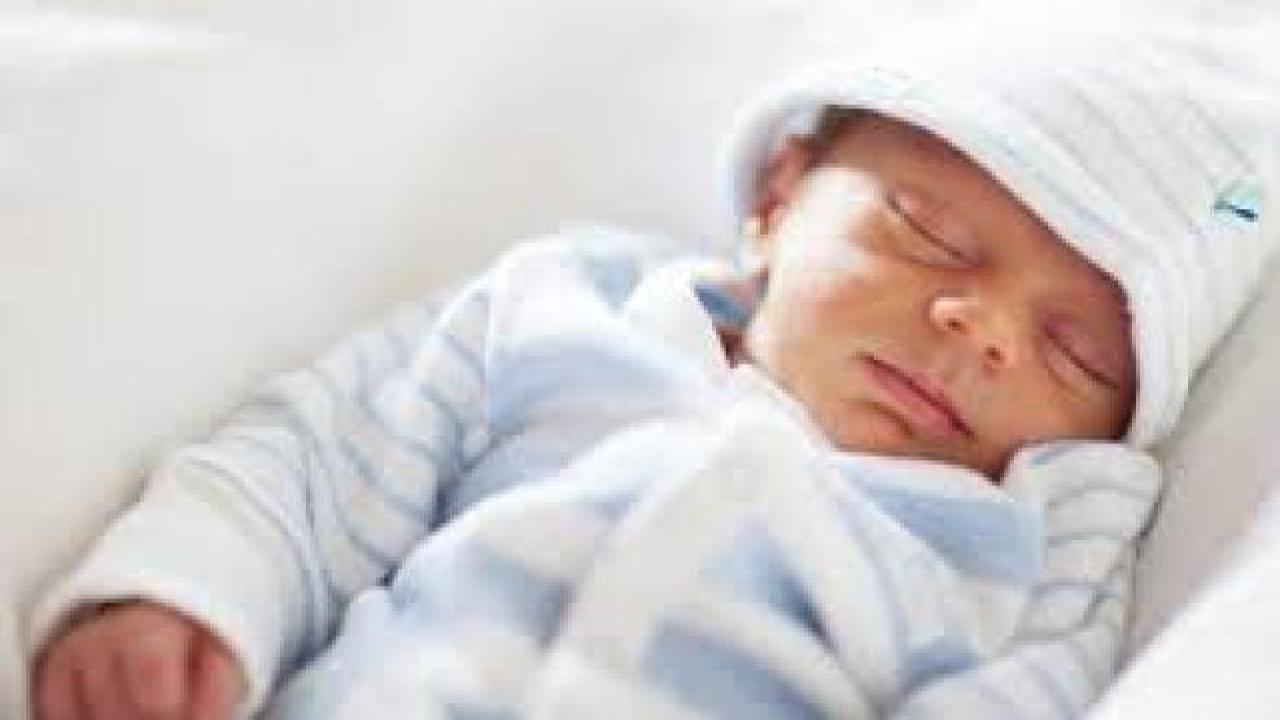hand: (13, 601, 242, 720)
